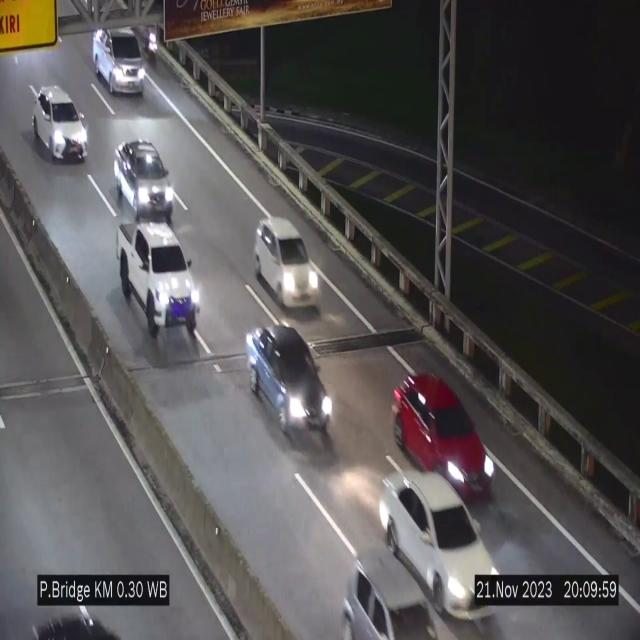Car: (379, 468, 502, 619), (392, 374, 495, 494), (117, 220, 199, 360), (335, 543, 439, 640), (246, 326, 332, 443), (253, 218, 320, 308), (114, 142, 174, 220), (33, 86, 88, 160), (93, 26, 145, 96)
Motorcycle: (142, 19, 162, 81)
